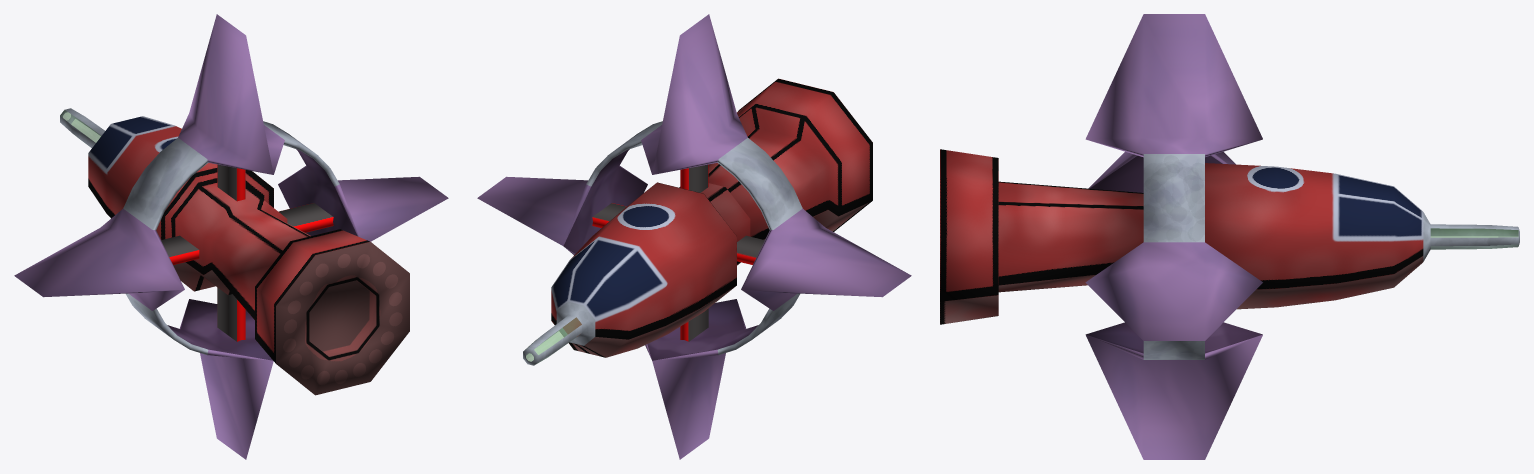
Rendered from targetship_0.fbx.
3 views of the same model, side by side, from view 1: azimuth 30°, elevation 25°; view 2: azimuth 150°, elevation 25°; view 3: azimuth 270°, elevation 25° (orthographic). The views are drawn at different scales.
Visible parts, largest first — view 1: Circle; view 2: Circle; view 3: Circle.
Part boxes in pixels (x1=…): Circle: x1=14, y1=14, x2=448, y2=459; Circle: x1=477, y1=14, x2=911, y2=459; Circle: x1=940, y1=14, x2=1519, y2=459.
Size of the model in its own units: 16.8 by 16.8 by 19.8.
5 materials, 5 textured.
